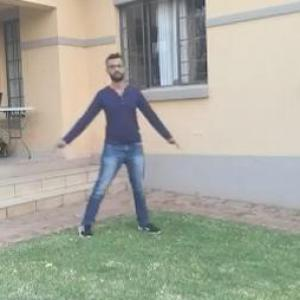land: (66, 62, 169, 226)
